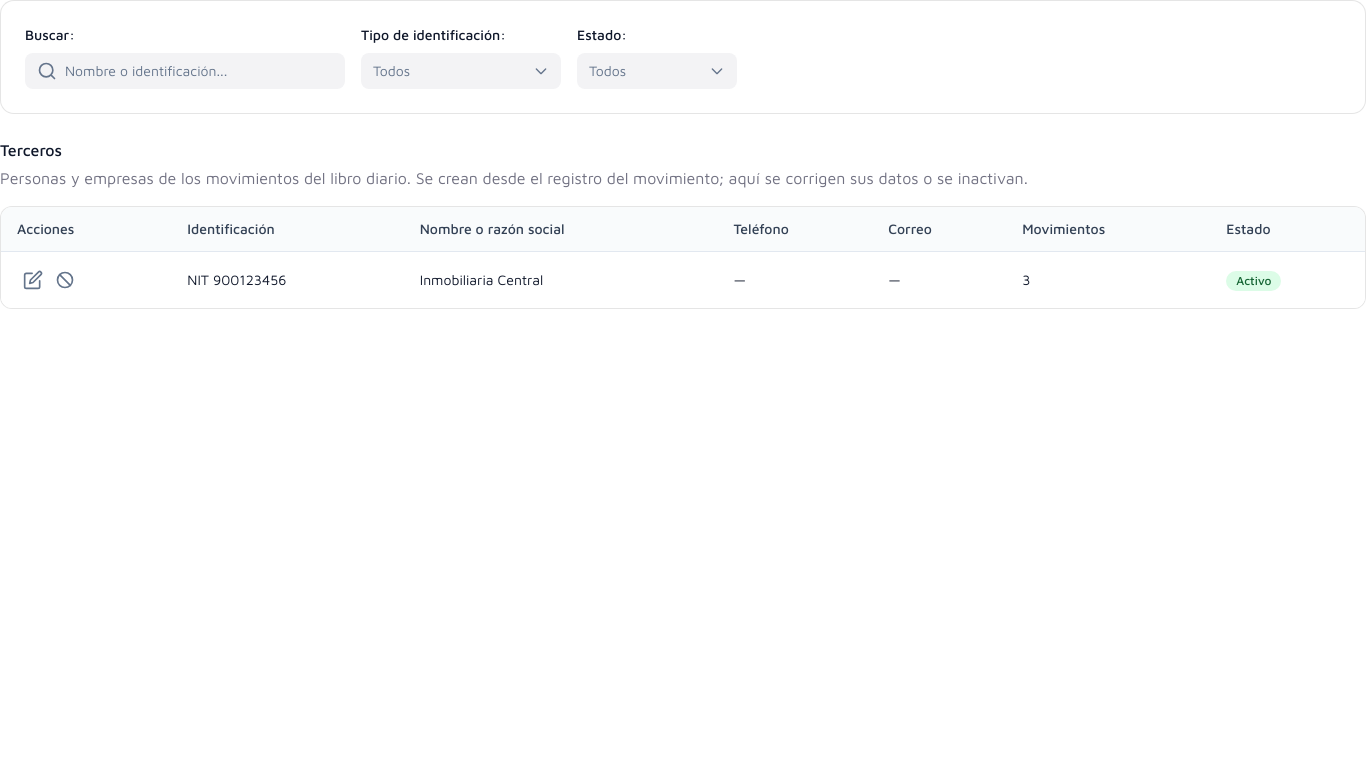
Test: LdTercerosPanel › muestra los errores de validación al editar
Click the button titled "Editar": (33, 280) x1=17 y1=264 x2=49 y2=296
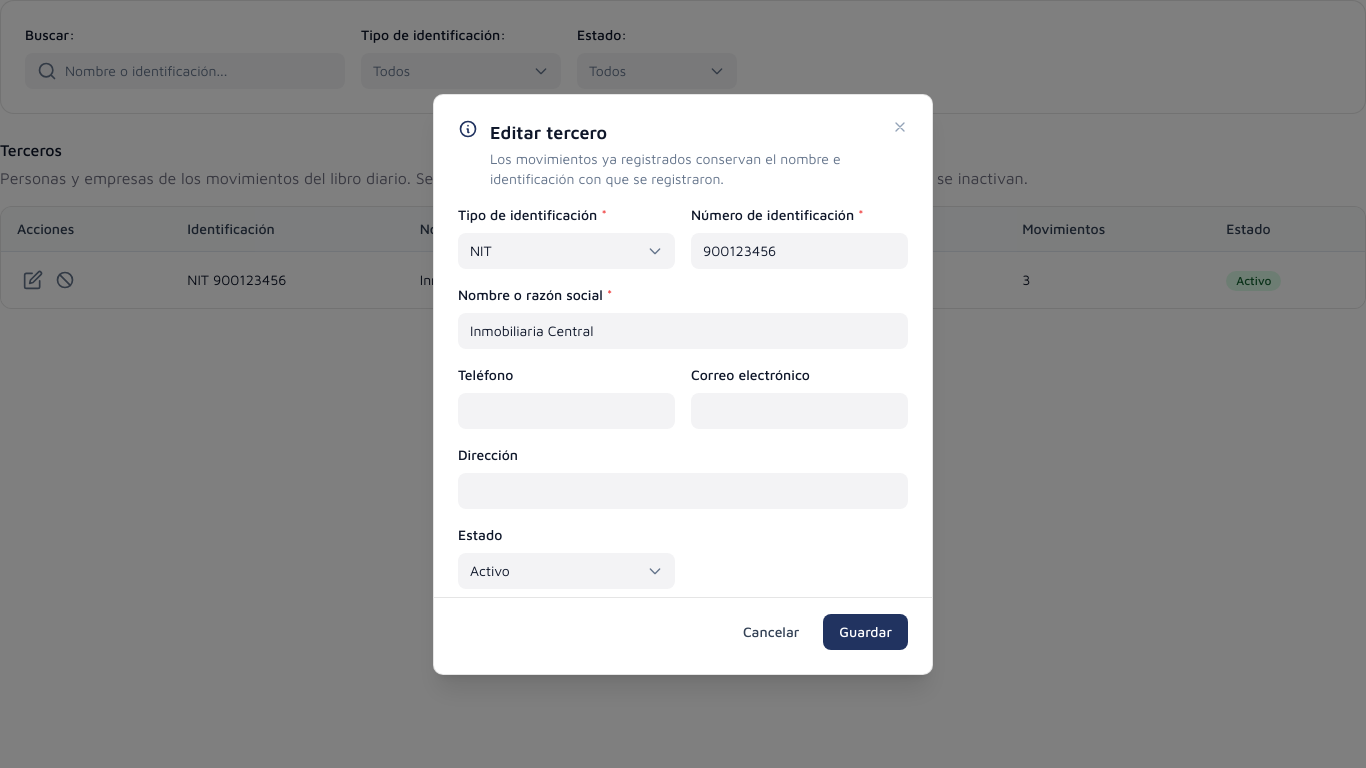
Click the button "Guardar": (866, 632) x1=823 y1=614 x2=908 y2=650
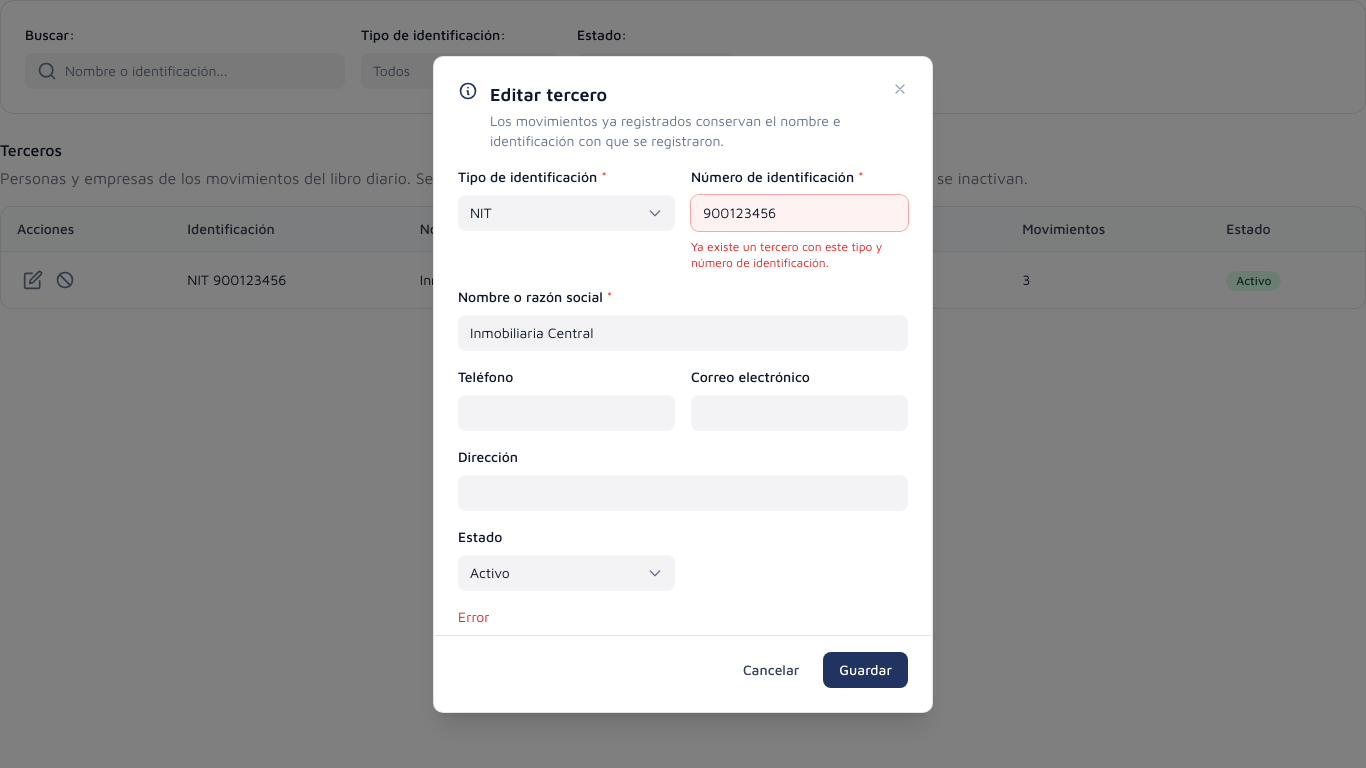
Expected: the text "Ya existe un tercero con este tipo y número de identificación." is shown, x1=691 y1=238 x2=908 y2=270
